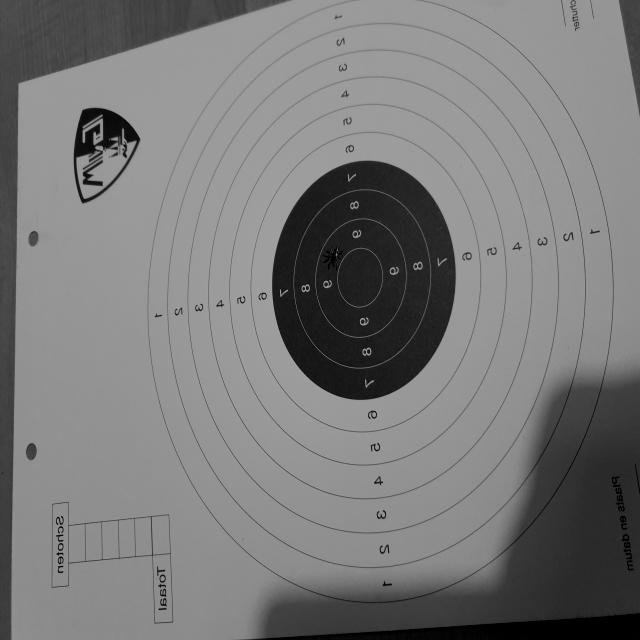9: (323, 245, 343, 272)
Target: (148, 2, 613, 606)
black_contour: (272, 160, 456, 400)
